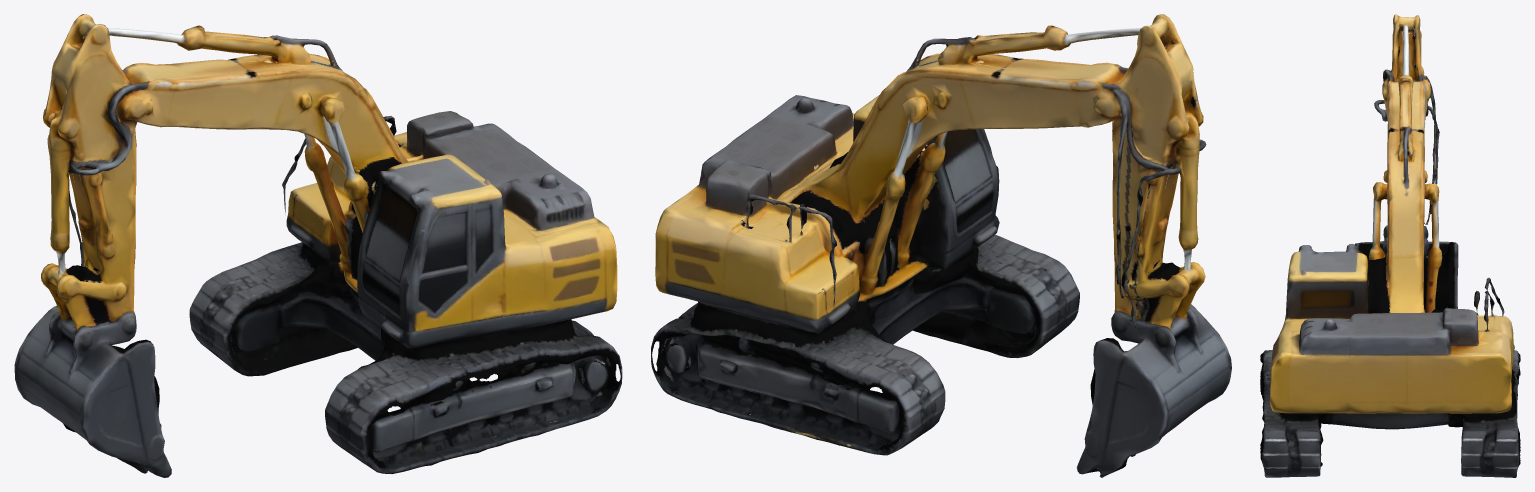
The picture shows the model from 3 angles, left to right: view 1: azimuth 30°, elevation 25°; view 2: azimuth 150°, elevation 25°; view 3: azimuth 270°, elevation 25°; orthographic projection. The views are drawn at different scales.
Parts seen in each view (by area): view 1: Mesh_0; view 2: Mesh_0; view 3: Mesh_0.
Part boxes in pixels (x1=…): Mesh_0: x1=14, y1=14, x2=622, y2=477; Mesh_0: x1=651, y1=14, x2=1231, y2=477; Mesh_0: x1=1260, y1=14, x2=1520, y2=477.
Bounding box in the file's own units: 2.75 × 2.45 × 1.76.
1 material, 1 textured.
